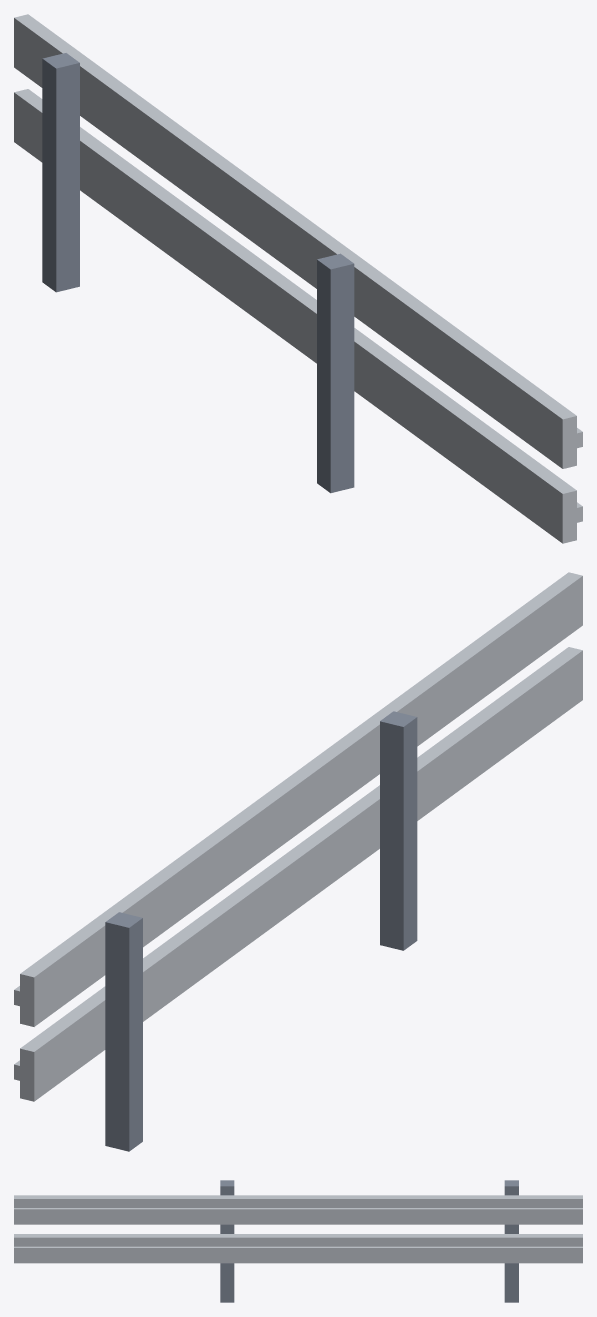
Rendered from armco_4m.glb.
3 renders of one model, top to bottom at view 1: azimuth 30°, elevation 25°; view 2: azimuth 150°, elevation 25°; view 3: azimuth 270°, elevation 25°, orthographic. The views are drawn at different scales.
Visible parts, largest first — view 1: armco; view 2: armco; view 3: armco.
Boxes of the visible parts, x1,y1,x2,y2 form: armco: [14, 14, 582, 543]; armco: [14, 572, 582, 1151]; armco: [14, 1180, 582, 1302].
Size of the model in its own units: 0.225 by 0.9 by 4.
